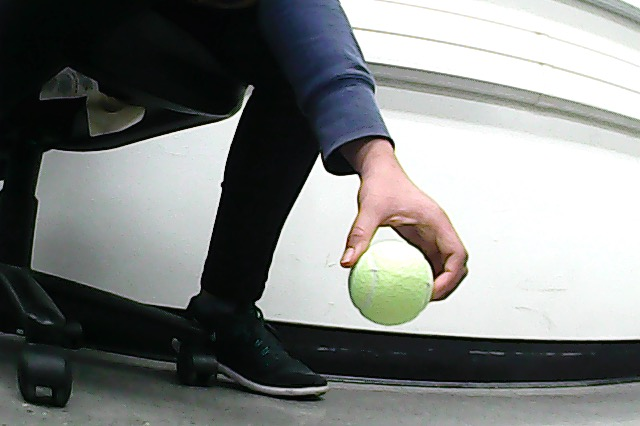ball: (349, 241, 433, 326)
